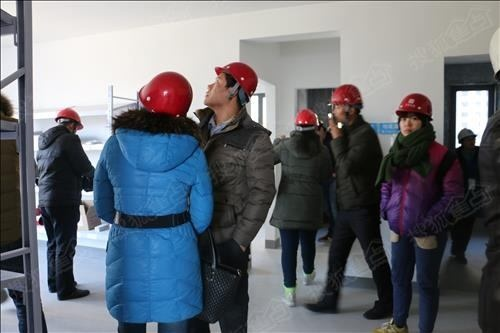red: (135, 70, 194, 123), (203, 62, 257, 114), (395, 91, 433, 137), (327, 83, 362, 125), (292, 106, 320, 138), (54, 107, 82, 134)
white: (458, 126, 478, 150)
